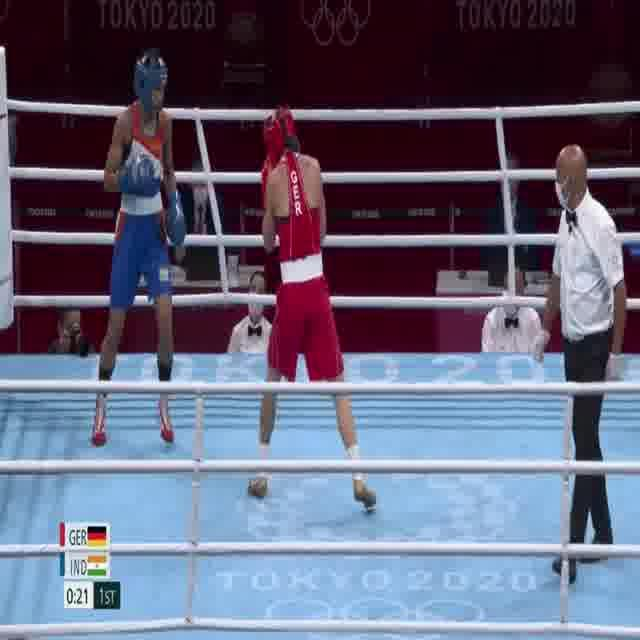blue-player: (86, 44, 187, 452)
red-player: (246, 102, 378, 510)
referee: (530, 136, 630, 587)
